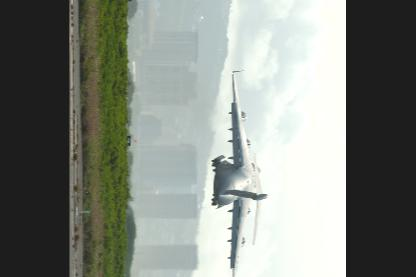C2: (211, 67, 269, 276)
